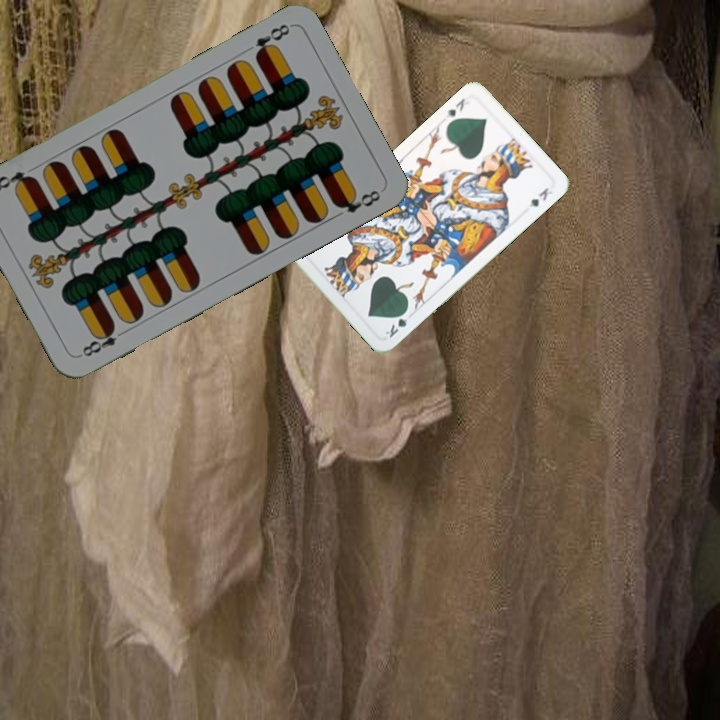E8: (78, 321, 130, 360), (251, 20, 293, 62)
GK: (381, 306, 411, 340), (442, 94, 473, 121)
